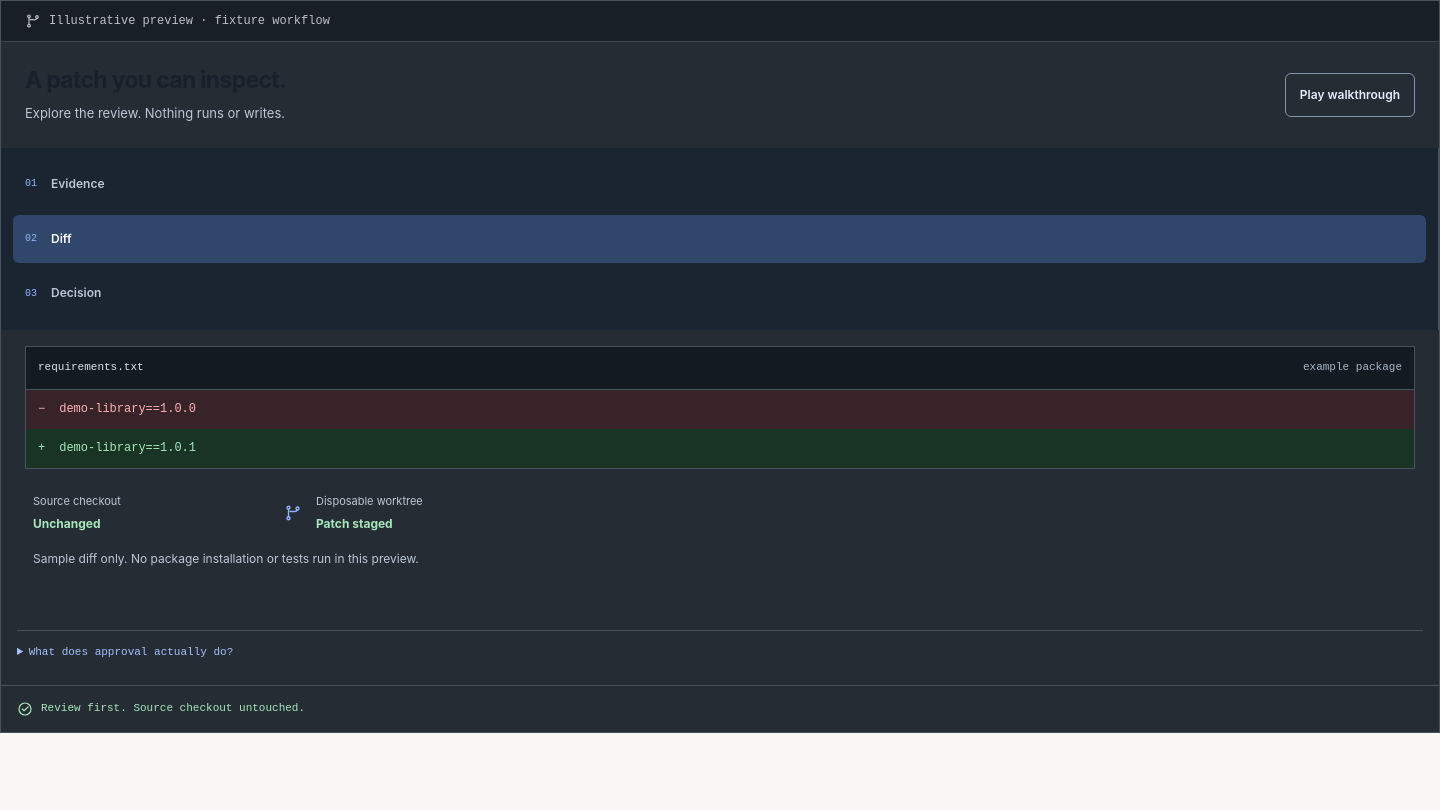
Test: Interactive dependency preview › shows the evidence and diff through labeled controls
Expected: the element named "Illustrative version change" is shown, x1=25 y1=346 x2=1415 y2=469
Click the button "01 Evidence" at {"x": 78, "y": 183}, box x1=13 y1=160 x2=1426 y2=209
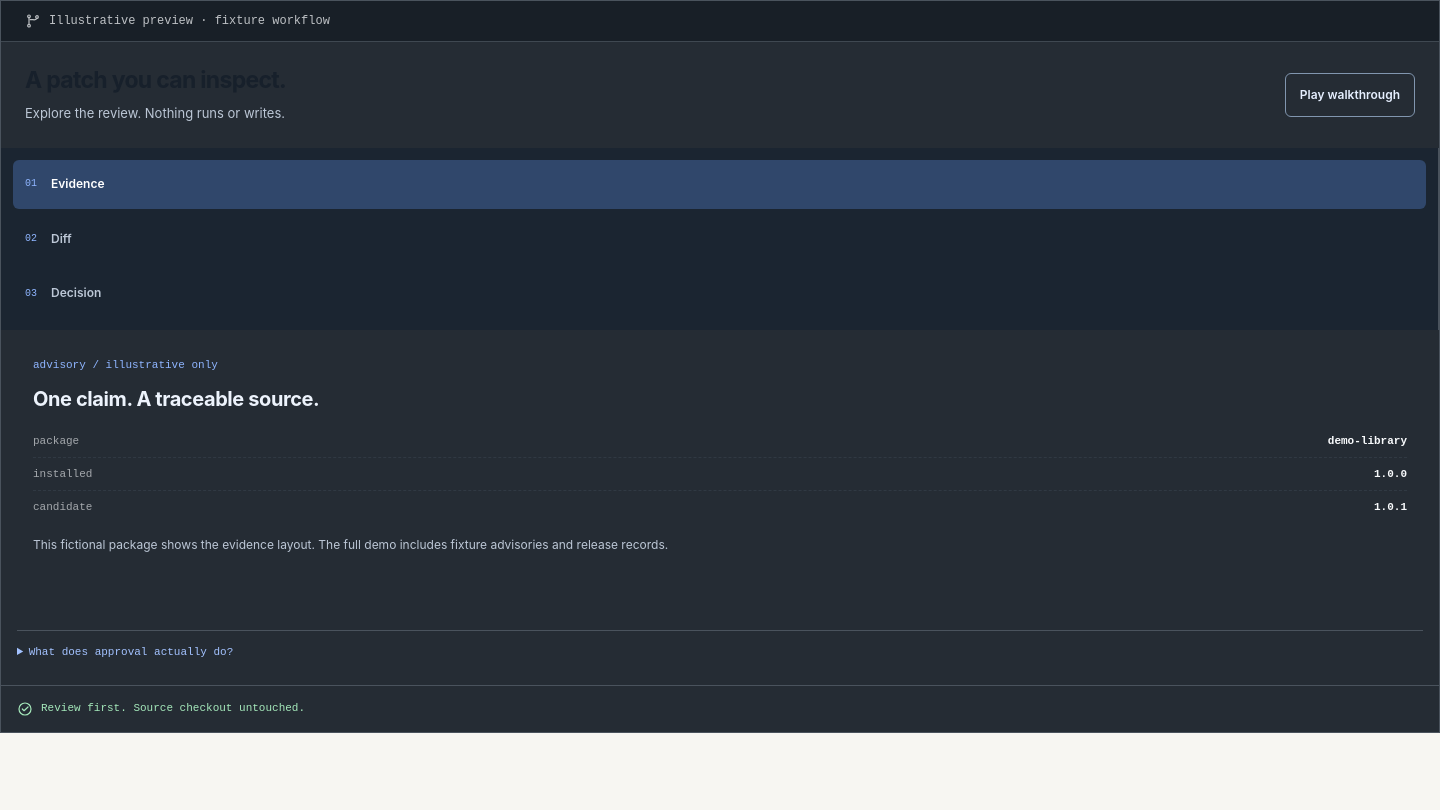
Result: the heading "One claim. A traceable source." is shown at x1=33 y1=387 x2=319 y2=411
Click the button "02 Diff" at {"x": 28, "y": 238}, box x1=13 y1=215 x2=1426 y2=263
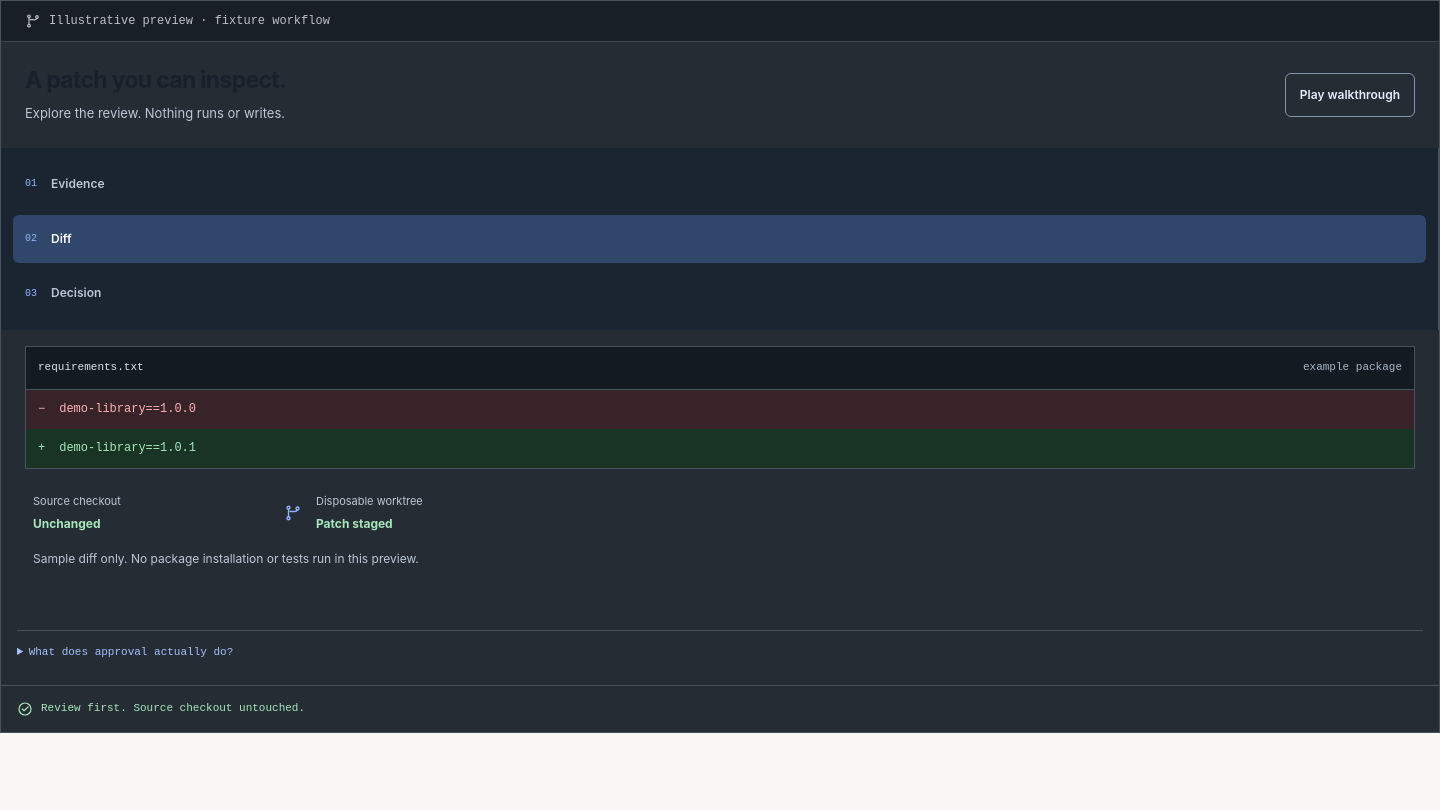
Result: the element named "Illustrative version change" is shown at x1=25 y1=346 x2=1415 y2=469
